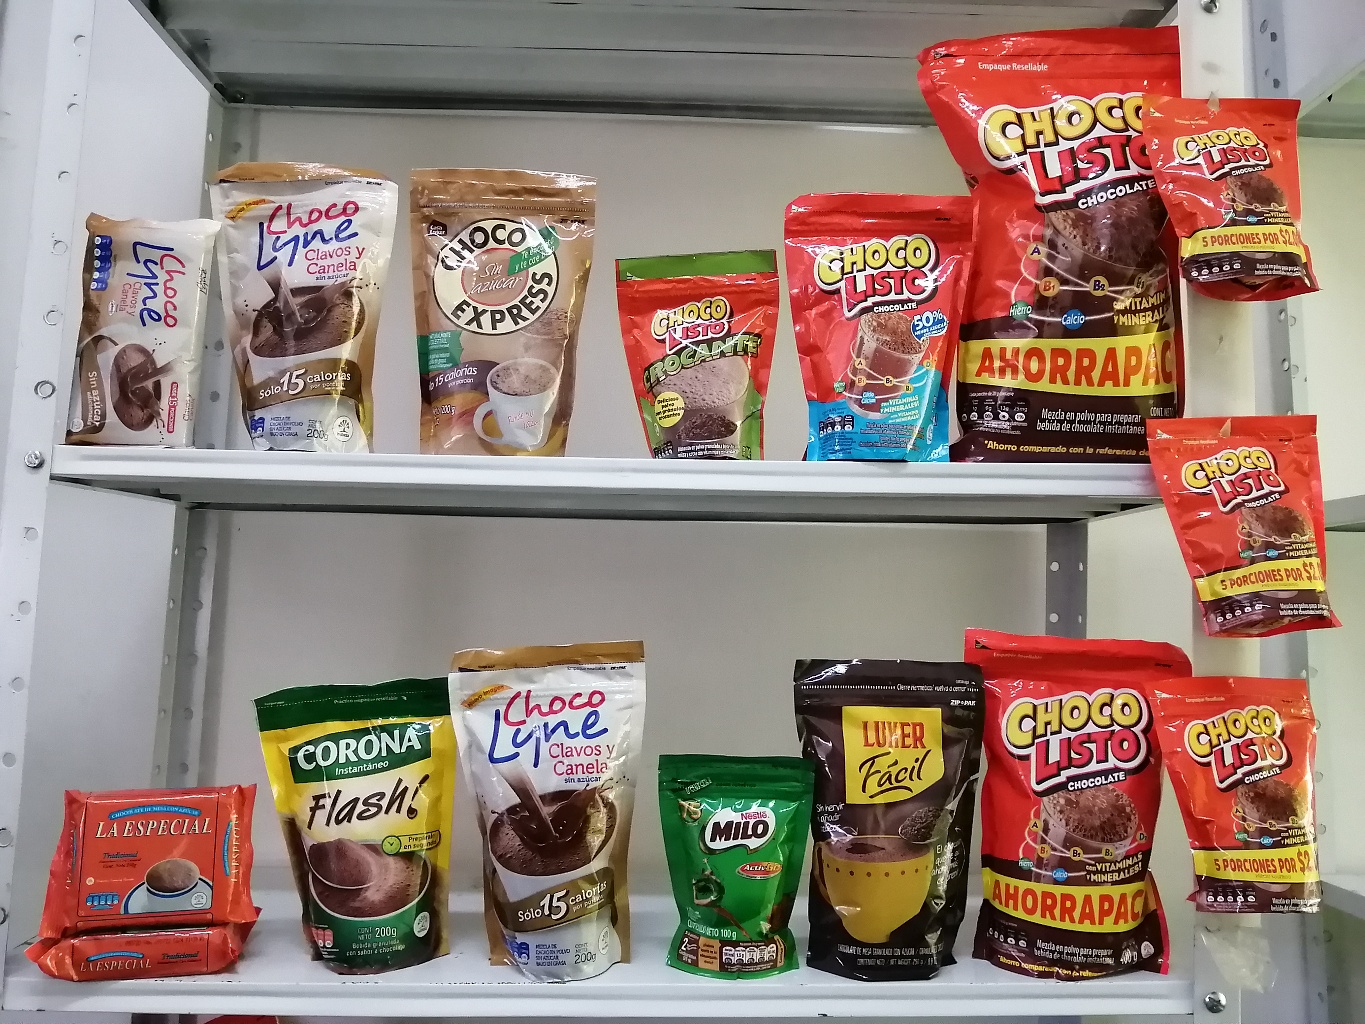COL0170102DYP10000: (597, 248, 783, 467)
COL0170103DYP1,500: (929, 27, 1221, 473)
COL0170103DYP10000: (1149, 398, 1346, 649)
COL0170103DYP40000: (964, 615, 1196, 989)
COL0170104DYP20000: (782, 183, 993, 469)
COL0170203DYP10000: (653, 740, 819, 994)
